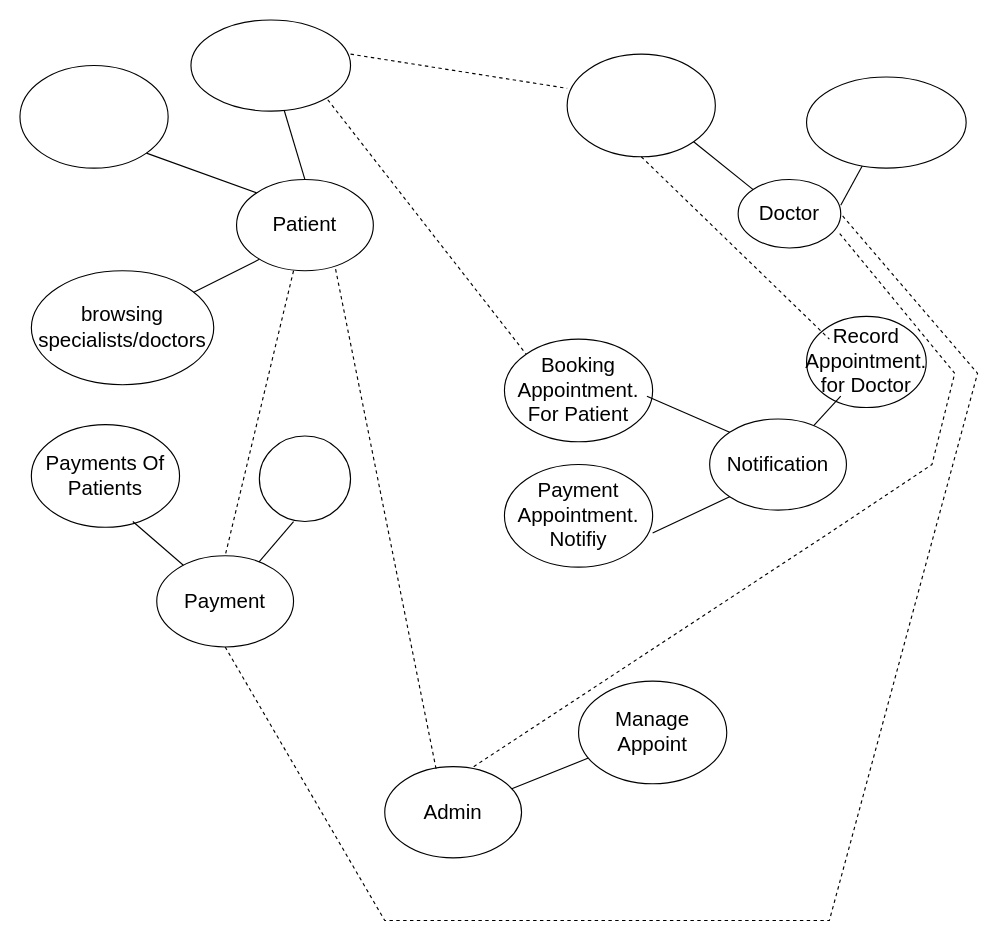
The diagram is 999 pixels wide and 942 high, and some of its shapes have lost their labels. Each missing label, with the centre of its shape:
"Booking Appointment." belongs at point (270, 65).
"Fees Of Doctor" belongs at point (304, 478).
"managing Doctor Profiles" belongs at point (885, 122).
"managing patient Profiles" belongs at point (93, 116).
"Record Appointment. Details" belongs at point (640, 105).
